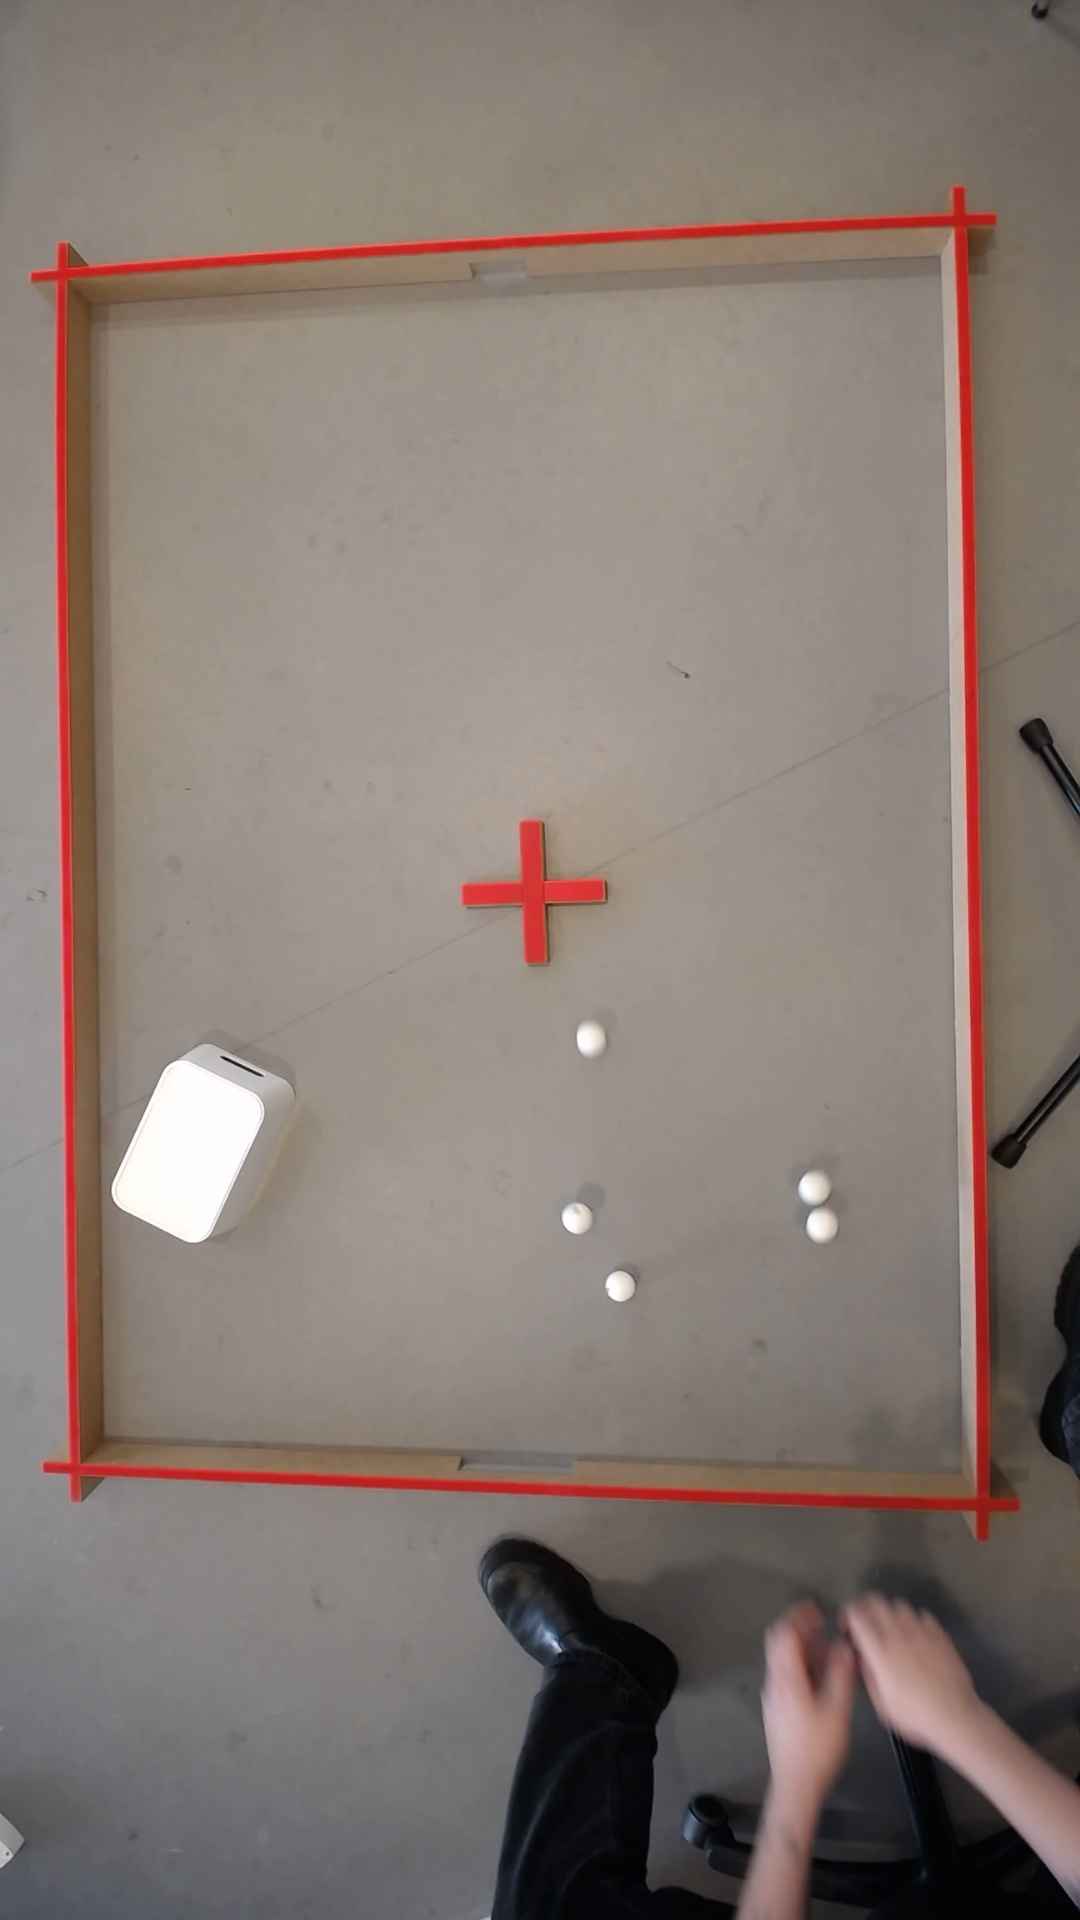balls: (102, 1051, 272, 1249), (851, 1647, 943, 1749), (760, 1687, 807, 1764), (600, 1269, 634, 1303), (800, 1208, 835, 1242), (576, 1025, 600, 1052)
car: (799, 1175, 822, 1200)
